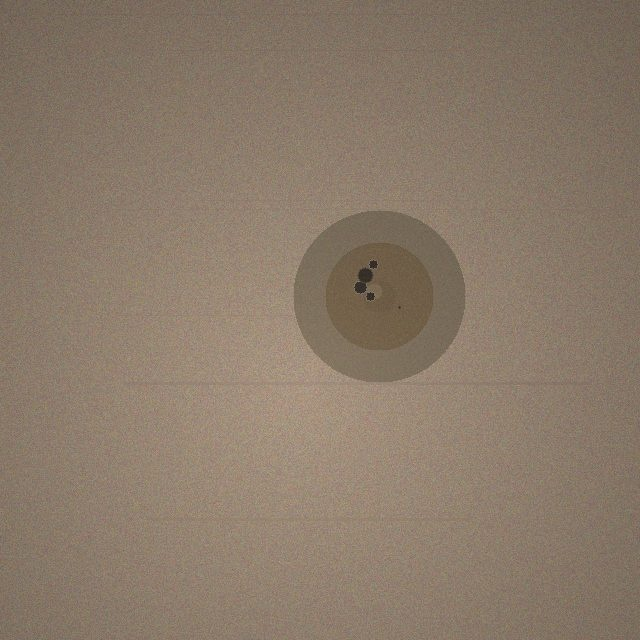shrinkage: (293, 210, 465, 382)
